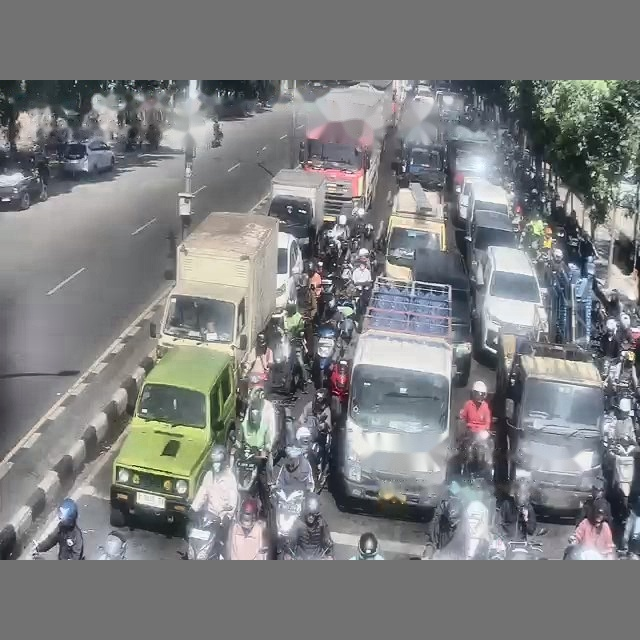Mobil: (110, 346, 236, 526), (471, 246, 547, 356), (412, 249, 472, 386), (0, 153, 47, 210), (62, 138, 115, 176), (276, 232, 302, 308)
Motor: (269, 314, 303, 394), (273, 488, 304, 557), (184, 511, 224, 559), (312, 323, 338, 388), (460, 431, 493, 479), (329, 360, 350, 422)
Truk: (337, 277, 454, 507), (151, 212, 277, 376), (299, 87, 392, 221), (267, 169, 325, 247)
